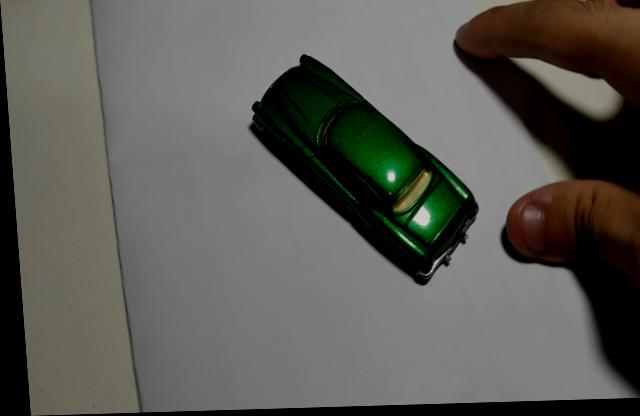06_MASERATI: (246, 57, 476, 289)
